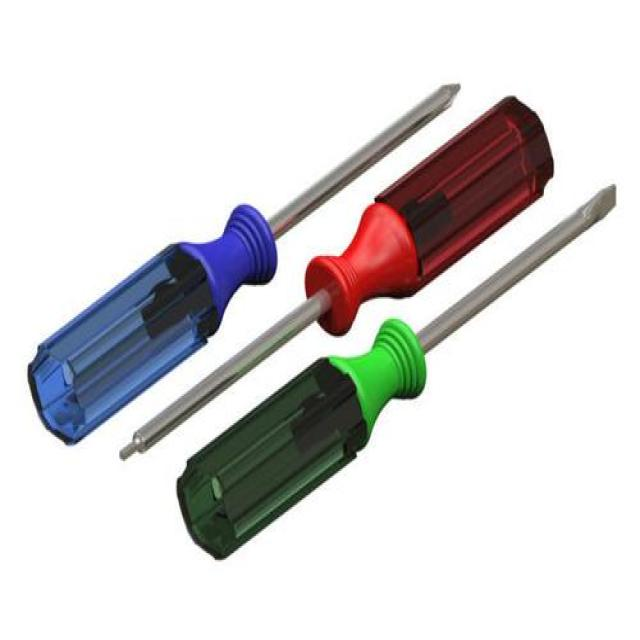screw driver: (22, 24, 638, 556)
